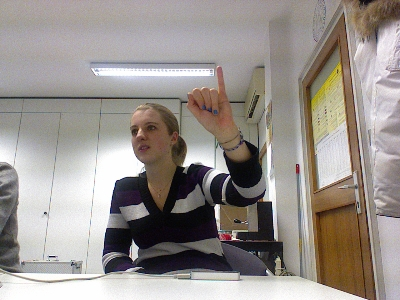小指: (185, 64, 236, 132)
